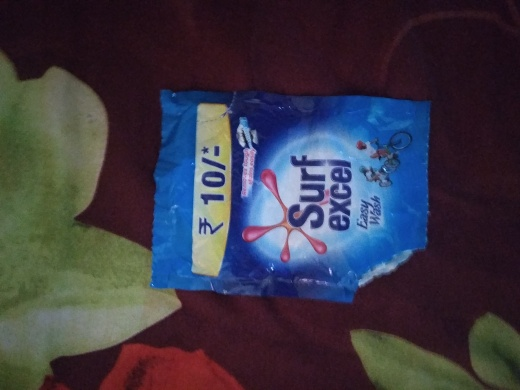surf: (145, 69, 440, 319)
